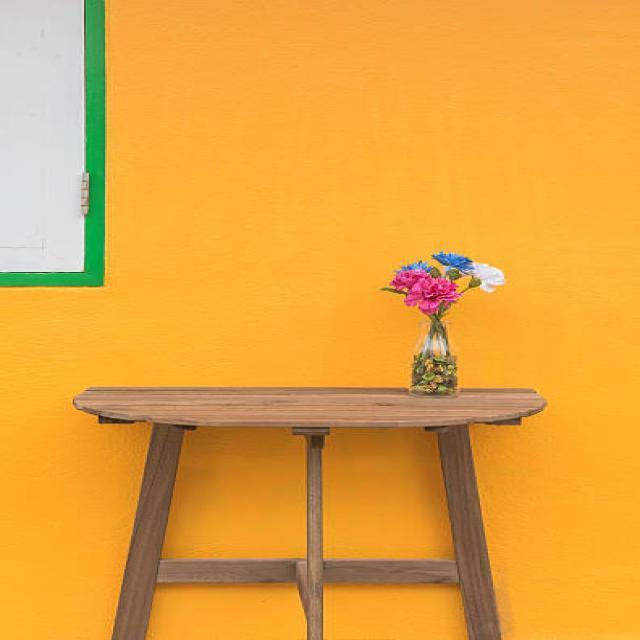table: (71, 385, 546, 639)
